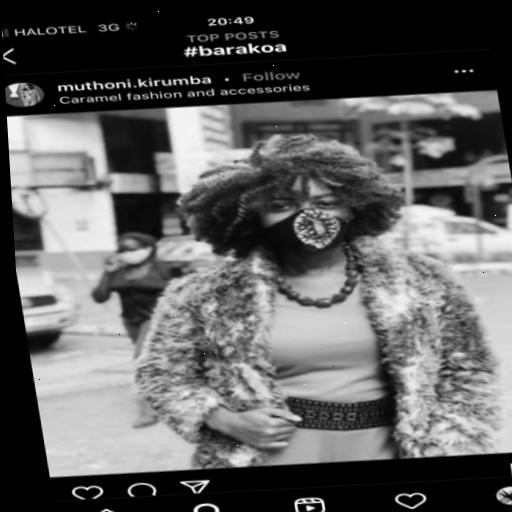mask: (258, 184, 357, 261), (113, 237, 153, 267)
